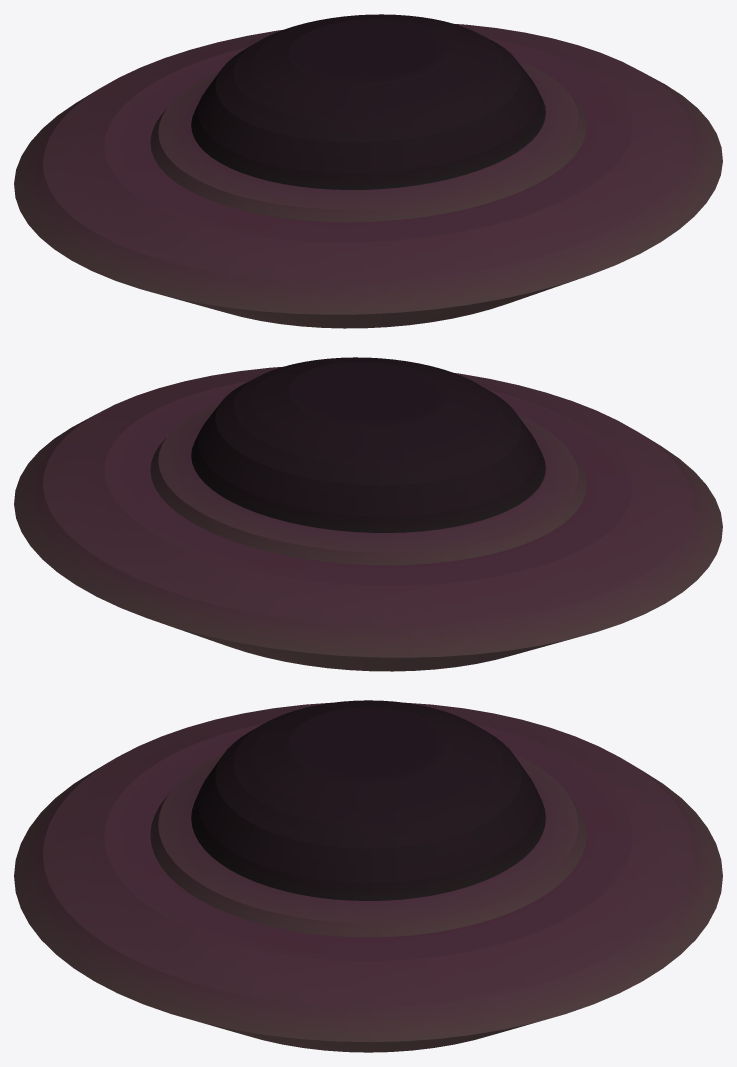
The picture shows the model from 3 angles, top to bottom: view 1: azimuth 30°, elevation 25°; view 2: azimuth 150°, elevation 25°; view 3: azimuth 270°, elevation 25°; orthographic projection. The views are drawn at different scales.
Parts seen in each view (by area): view 1: saucer_skin, dome, stepped_collar; view 2: saucer_skin, dome, stepped_collar; view 3: saucer_skin, dome, stepped_collar.
Part boxes in pixels (box(x1,y1,x2,y2)): saucer_skin: box(14, 24, 722, 328); dome: box(191, 14, 545, 189); stepped_collar: box(150, 60, 586, 222); saucer_skin: box(14, 367, 722, 671); dome: box(191, 357, 545, 532); stepped_collar: box(150, 403, 586, 565); saucer_skin: box(14, 702, 722, 1052); dome: box(191, 700, 545, 900); stepped_collar: box(150, 753, 586, 937).
Size of the model in its own units: 30 by 8.57 by 27.06.
